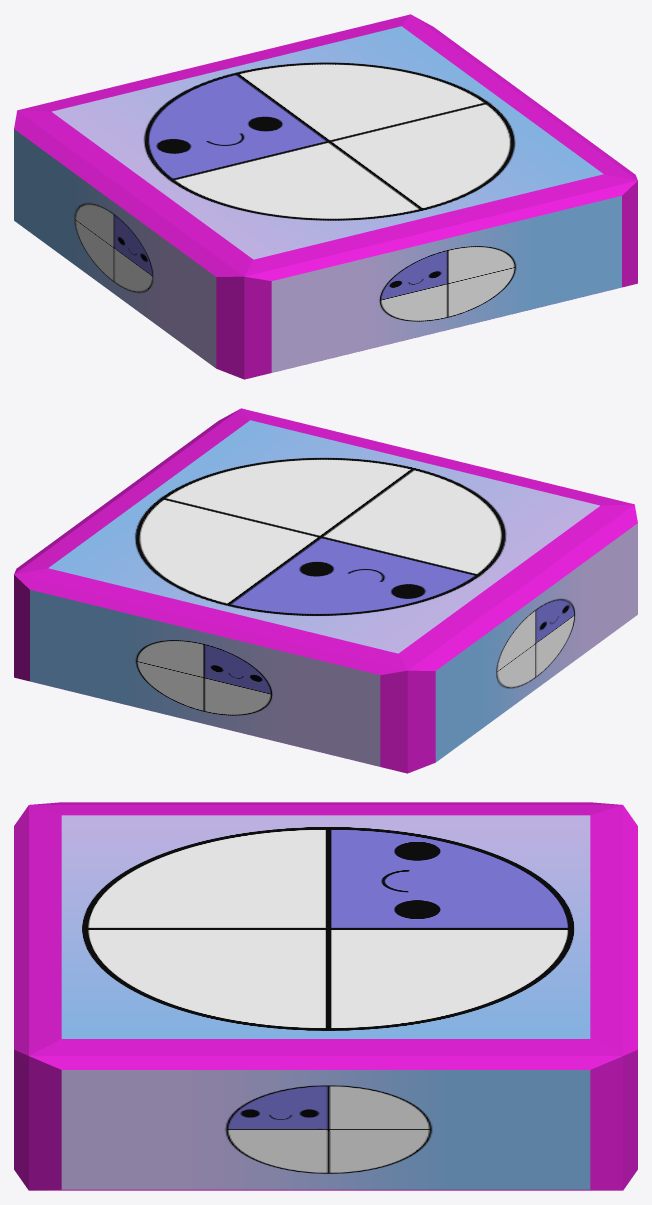
Rendered from Fracciones un cuarto.fbx.
The picture shows the model from 3 angles, top to bottom: view 1: azimuth 30°, elevation 25°; view 2: azimuth 150°, elevation 25°; view 3: azimuth 270°, elevation 25°; orthographic projection. The views are drawn at different scales.
Visible parts, largest first — view 1: 1/4; view 2: 1/4; view 3: 1/4.
Boxes of the visible parts, x1=… form: 1/4: x1=14, y1=14, x2=637, y2=379; 1/4: x1=14, y1=408, x2=637, y2=773; 1/4: x1=14, y1=802, x2=637, y2=1190.
Size of the model in its own units: 213 by 52.5 by 210.
2 materials, 1 textured.
